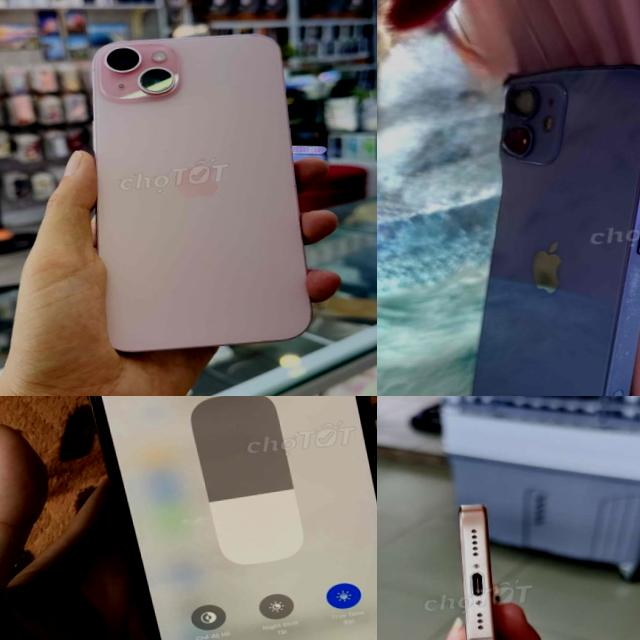gen_12_13: (433, 55, 640, 396)
gen_15: (68, 15, 322, 370)
gen_16: (459, 504, 496, 640)
gen_x_xs: (51, 396, 377, 640)
